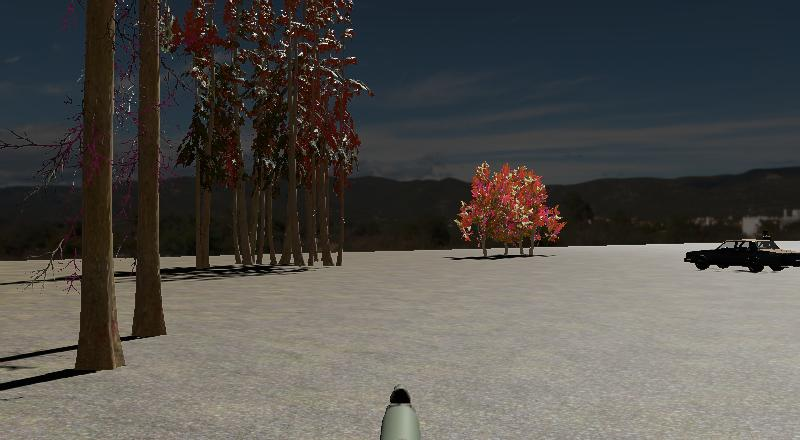car: (681, 236, 800, 274)
